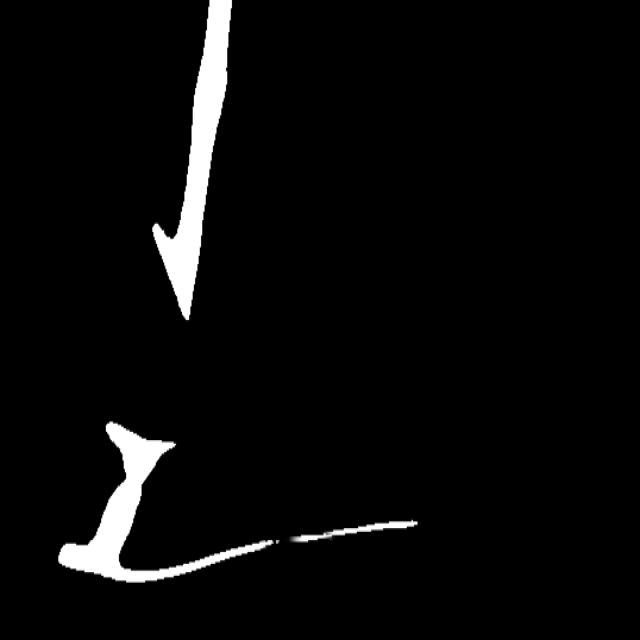inf: (266, 533, 299, 549)
